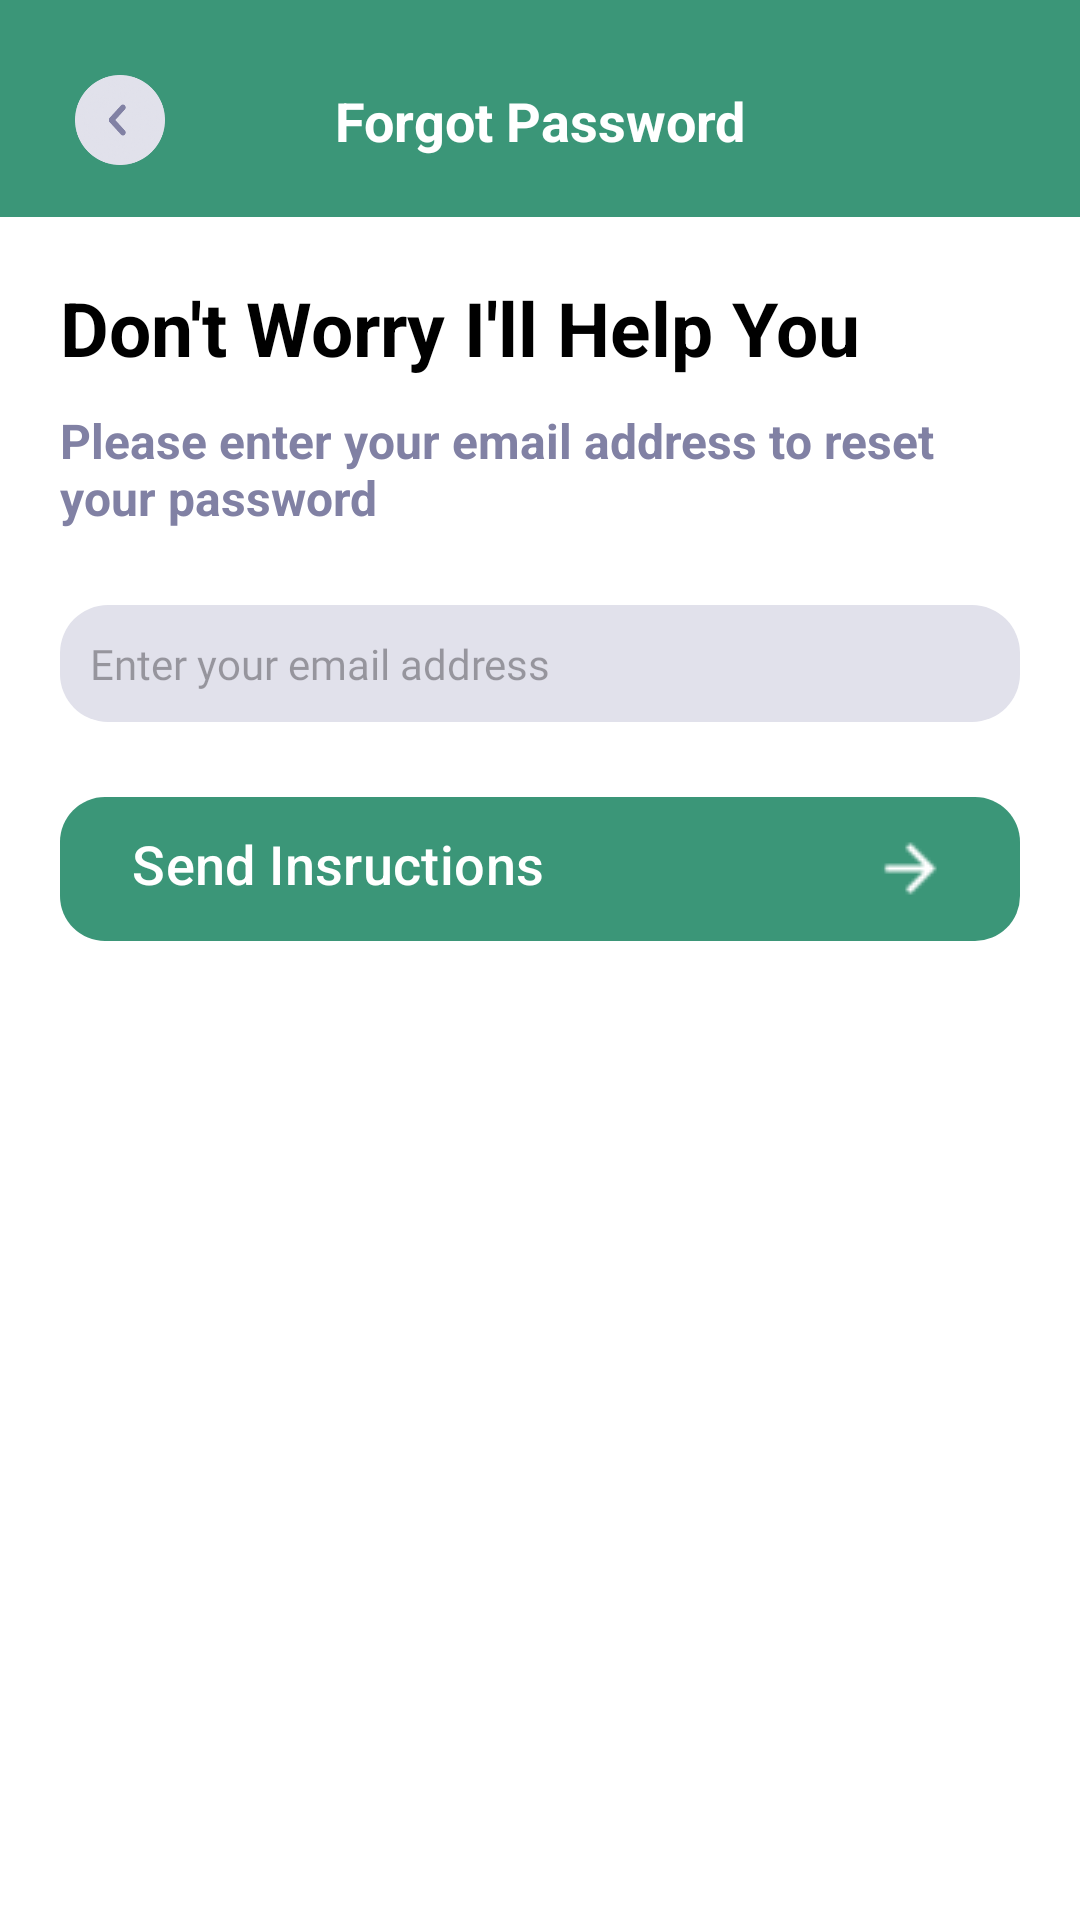

Where icons sit on this 1080x1920 app screen, as (x1, y1, x2, y2):
back: (75, 75, 165, 165)
